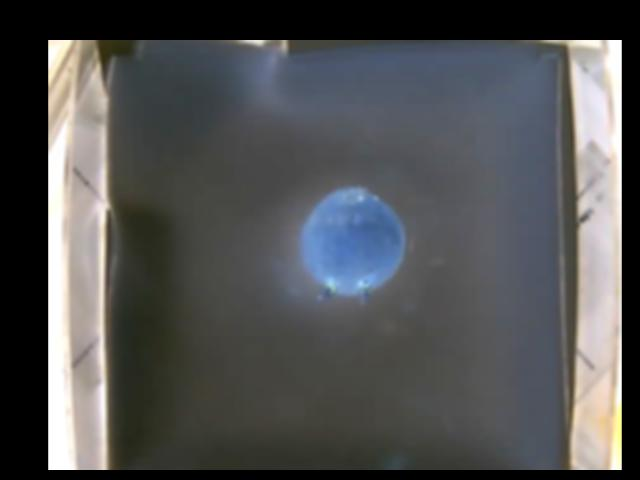Potato: (301, 186, 403, 301)
